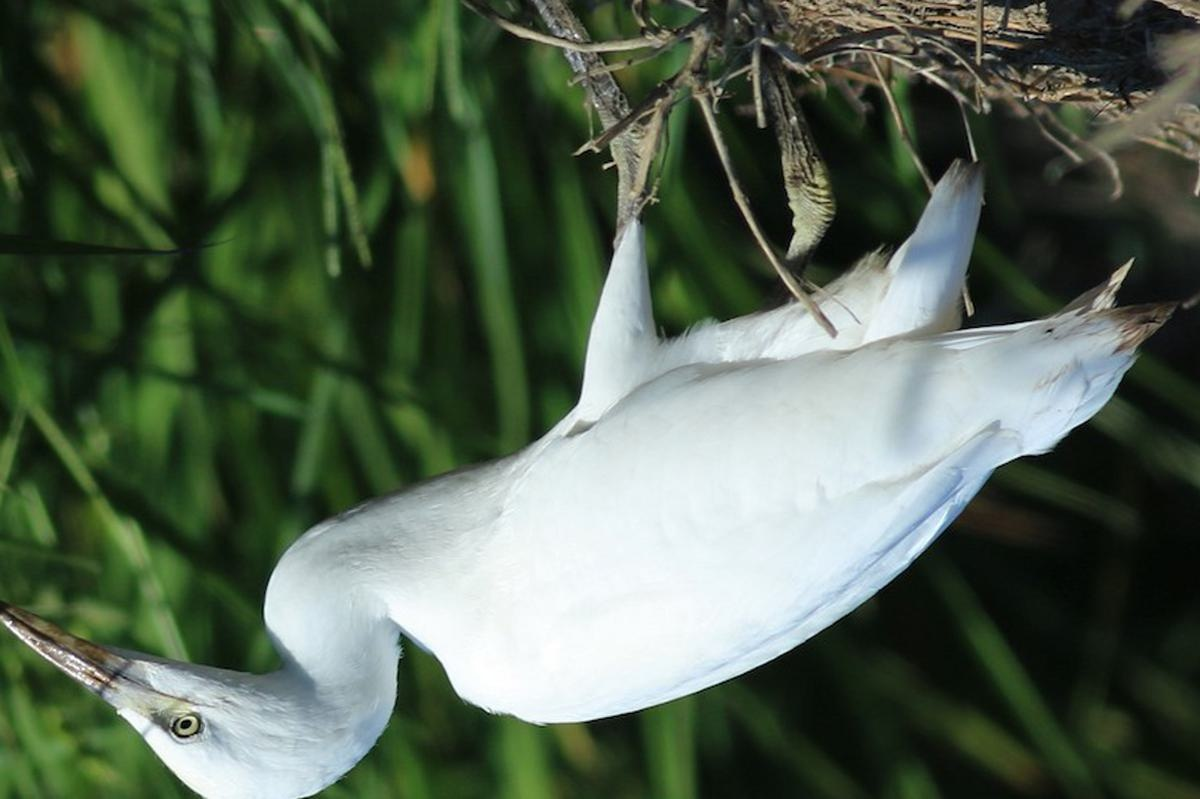egret: (1, 100, 1190, 798)
